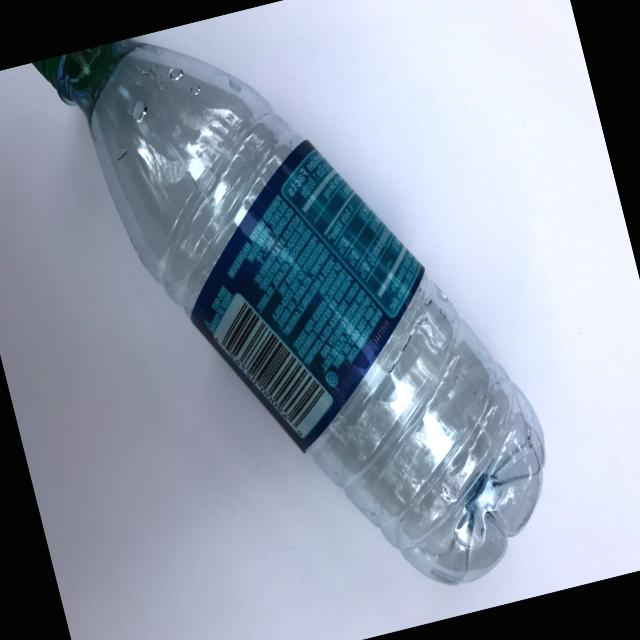Plastic: (24, 0, 579, 640)
